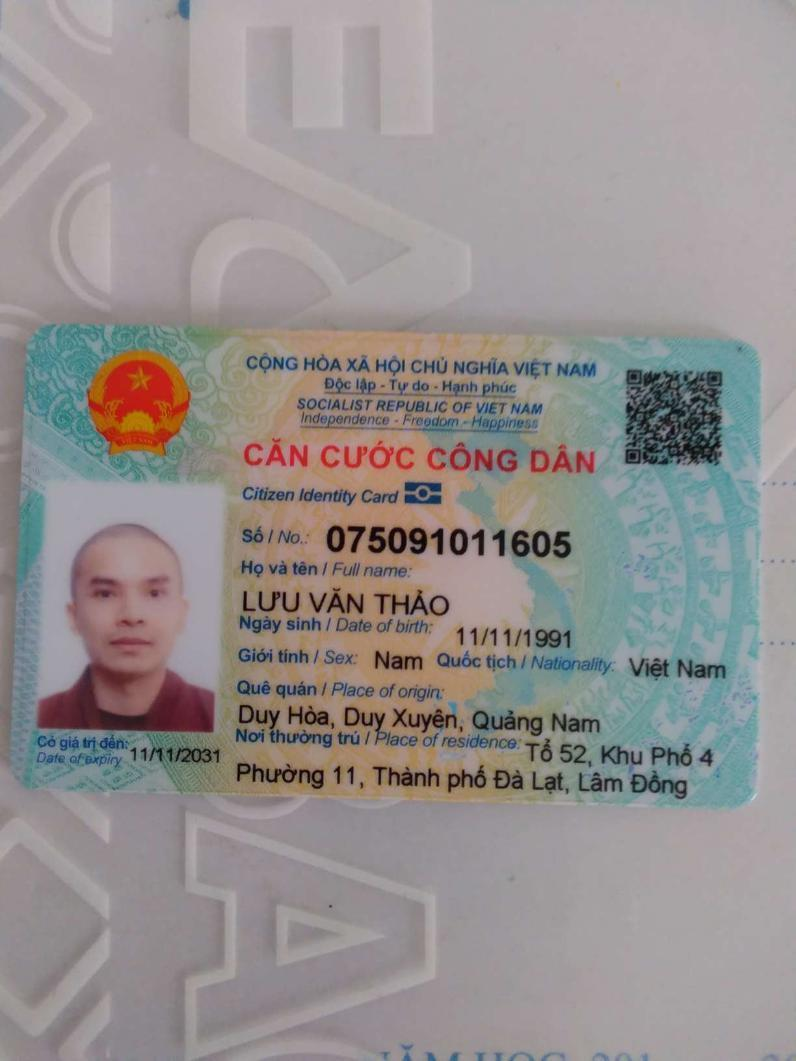ID: (320, 515, 584, 564)
birth: (444, 624, 591, 650)
name: (233, 581, 455, 621)
place: (231, 701, 610, 737)
residence: (225, 756, 704, 804), (524, 733, 722, 770)
